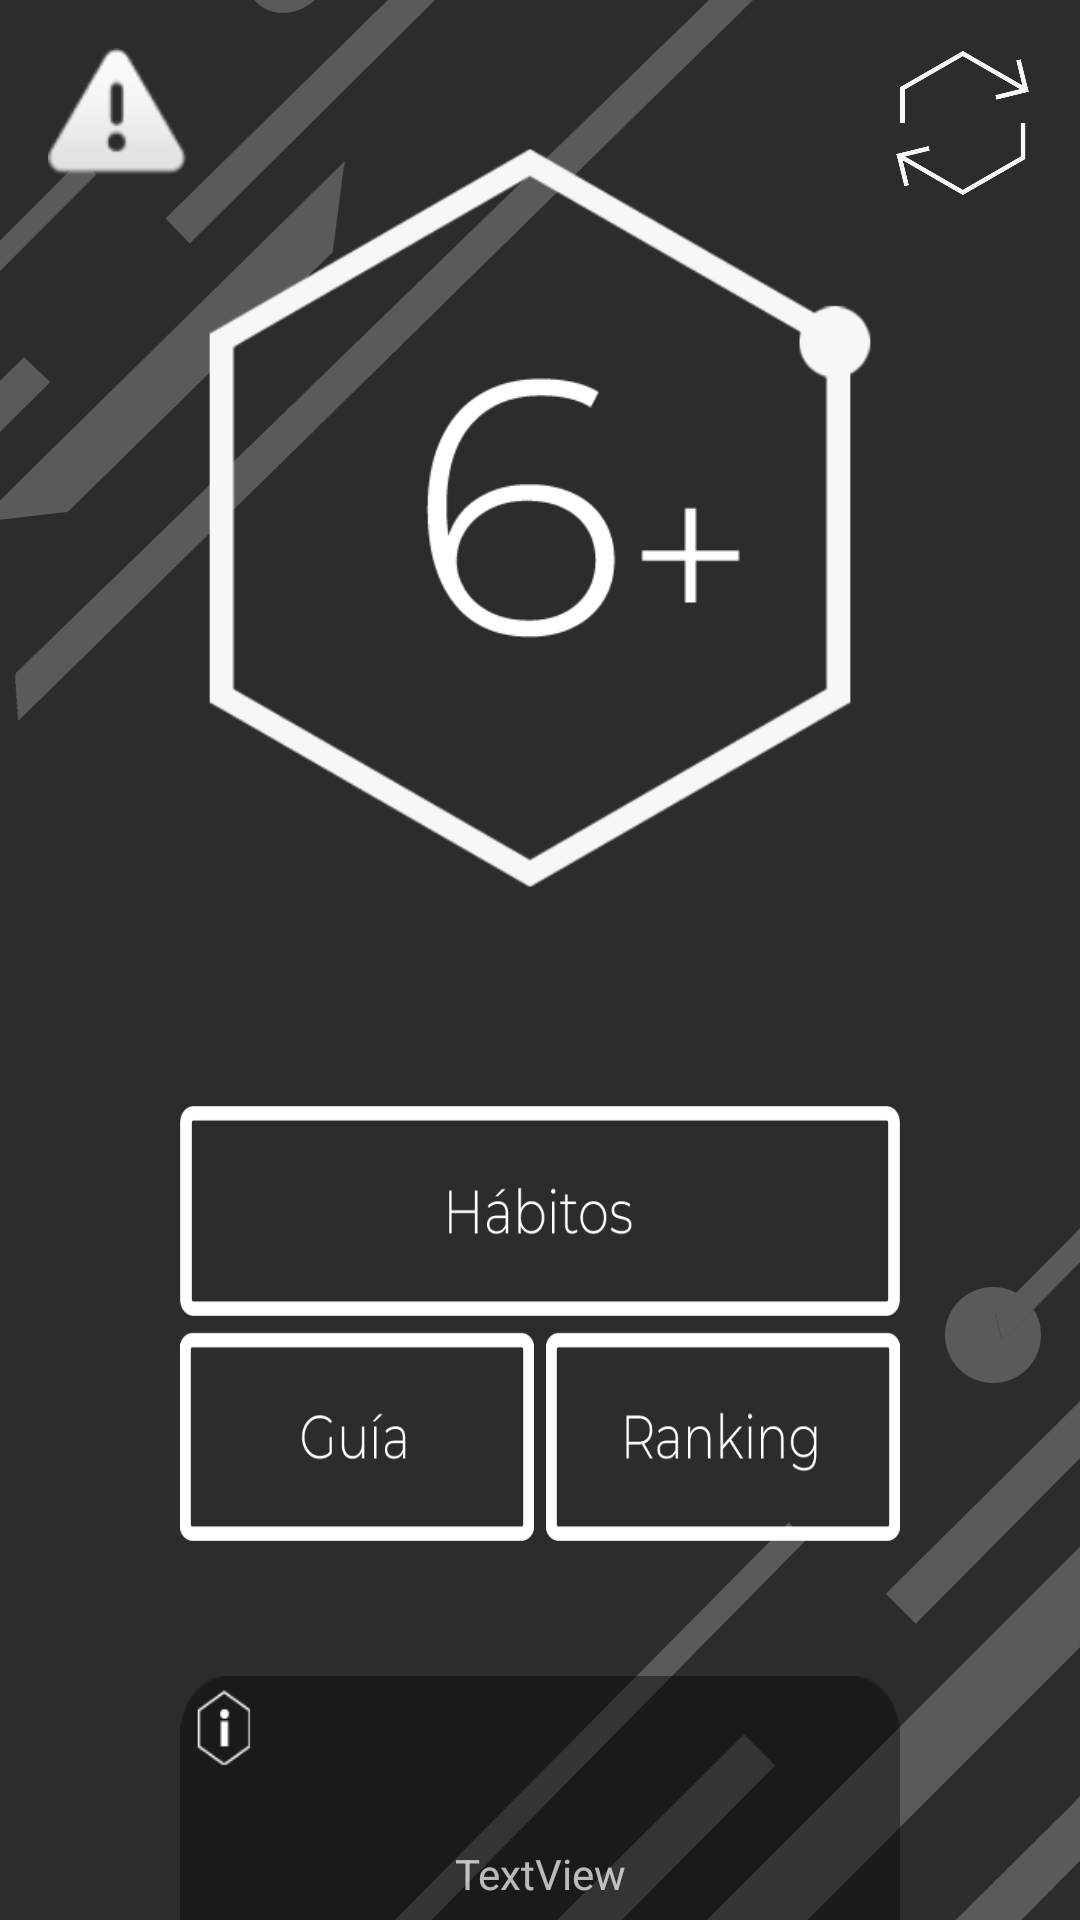

Where icons sit on this 1080x1920 app screen, as [left=x1, top=y1, right=x2, bottom=y2]:
alert: [left=48, top=48, right=186, bottom=186]
recargar: [left=896, top=51, right=1029, bottom=195]
